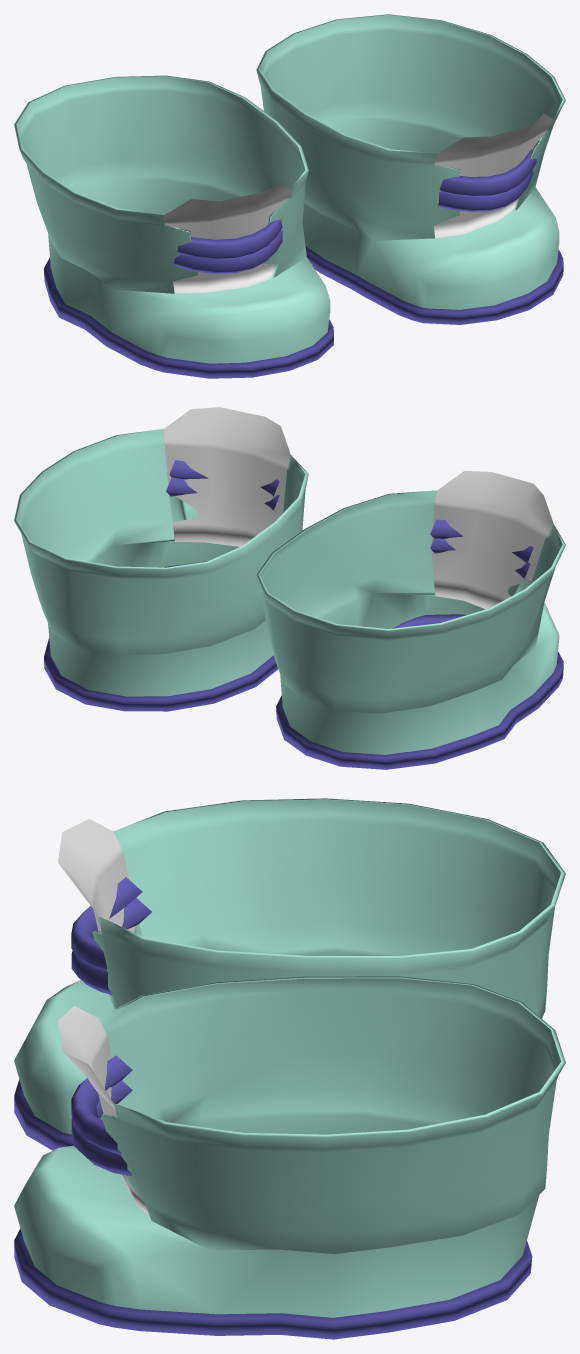
File: Boots08_sneakers.fbx
3 renders of one model, top to bottom at view 1: azimuth 30°, elevation 25°; view 2: azimuth 150°, elevation 25°; view 3: azimuth 270°, elevation 25°, orthographic. The views are drawn at different scales.
Parts seen in each view (by area): view 1: Sneakers_twolace; view 2: Sneakers_twolace; view 3: Sneakers_twolace.
Part boxes in pixels (x1=…): Sneakers_twolace: x1=14, y1=14, x2=565, y2=378; Sneakers_twolace: x1=14, y1=407, x2=565, y2=769; Sneakers_twolace: x1=14, y1=798, x2=565, y2=1339.
Bounding box in the file's own units: 97.44 × 32.65 × 67.05.
